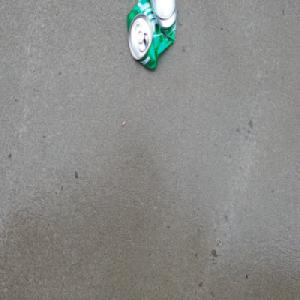SodaCan: (126, 0, 177, 72)
